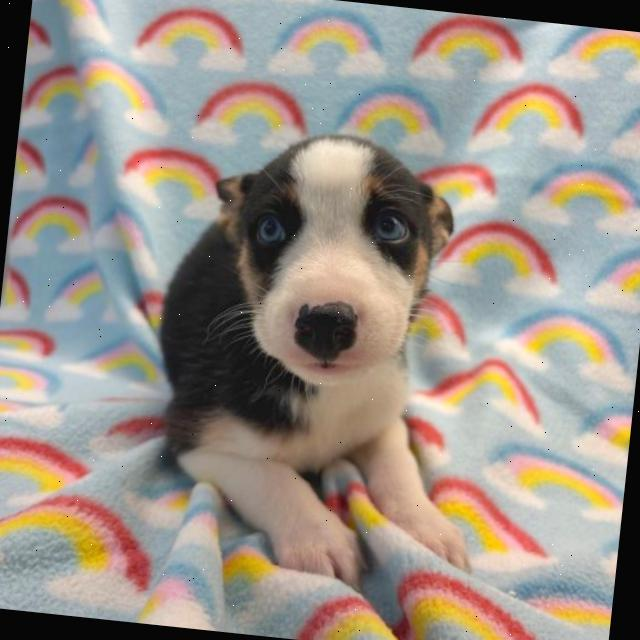siberian_husky_dog: (184, 113, 482, 414)
